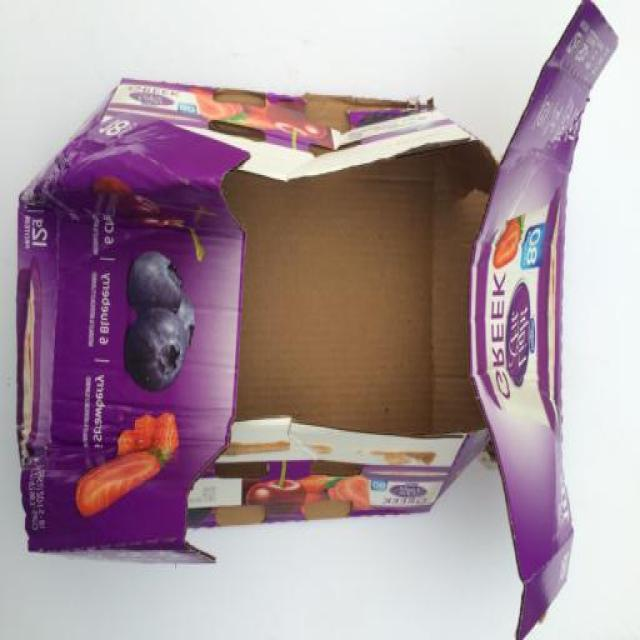cardboard: (16, 0, 618, 640)
